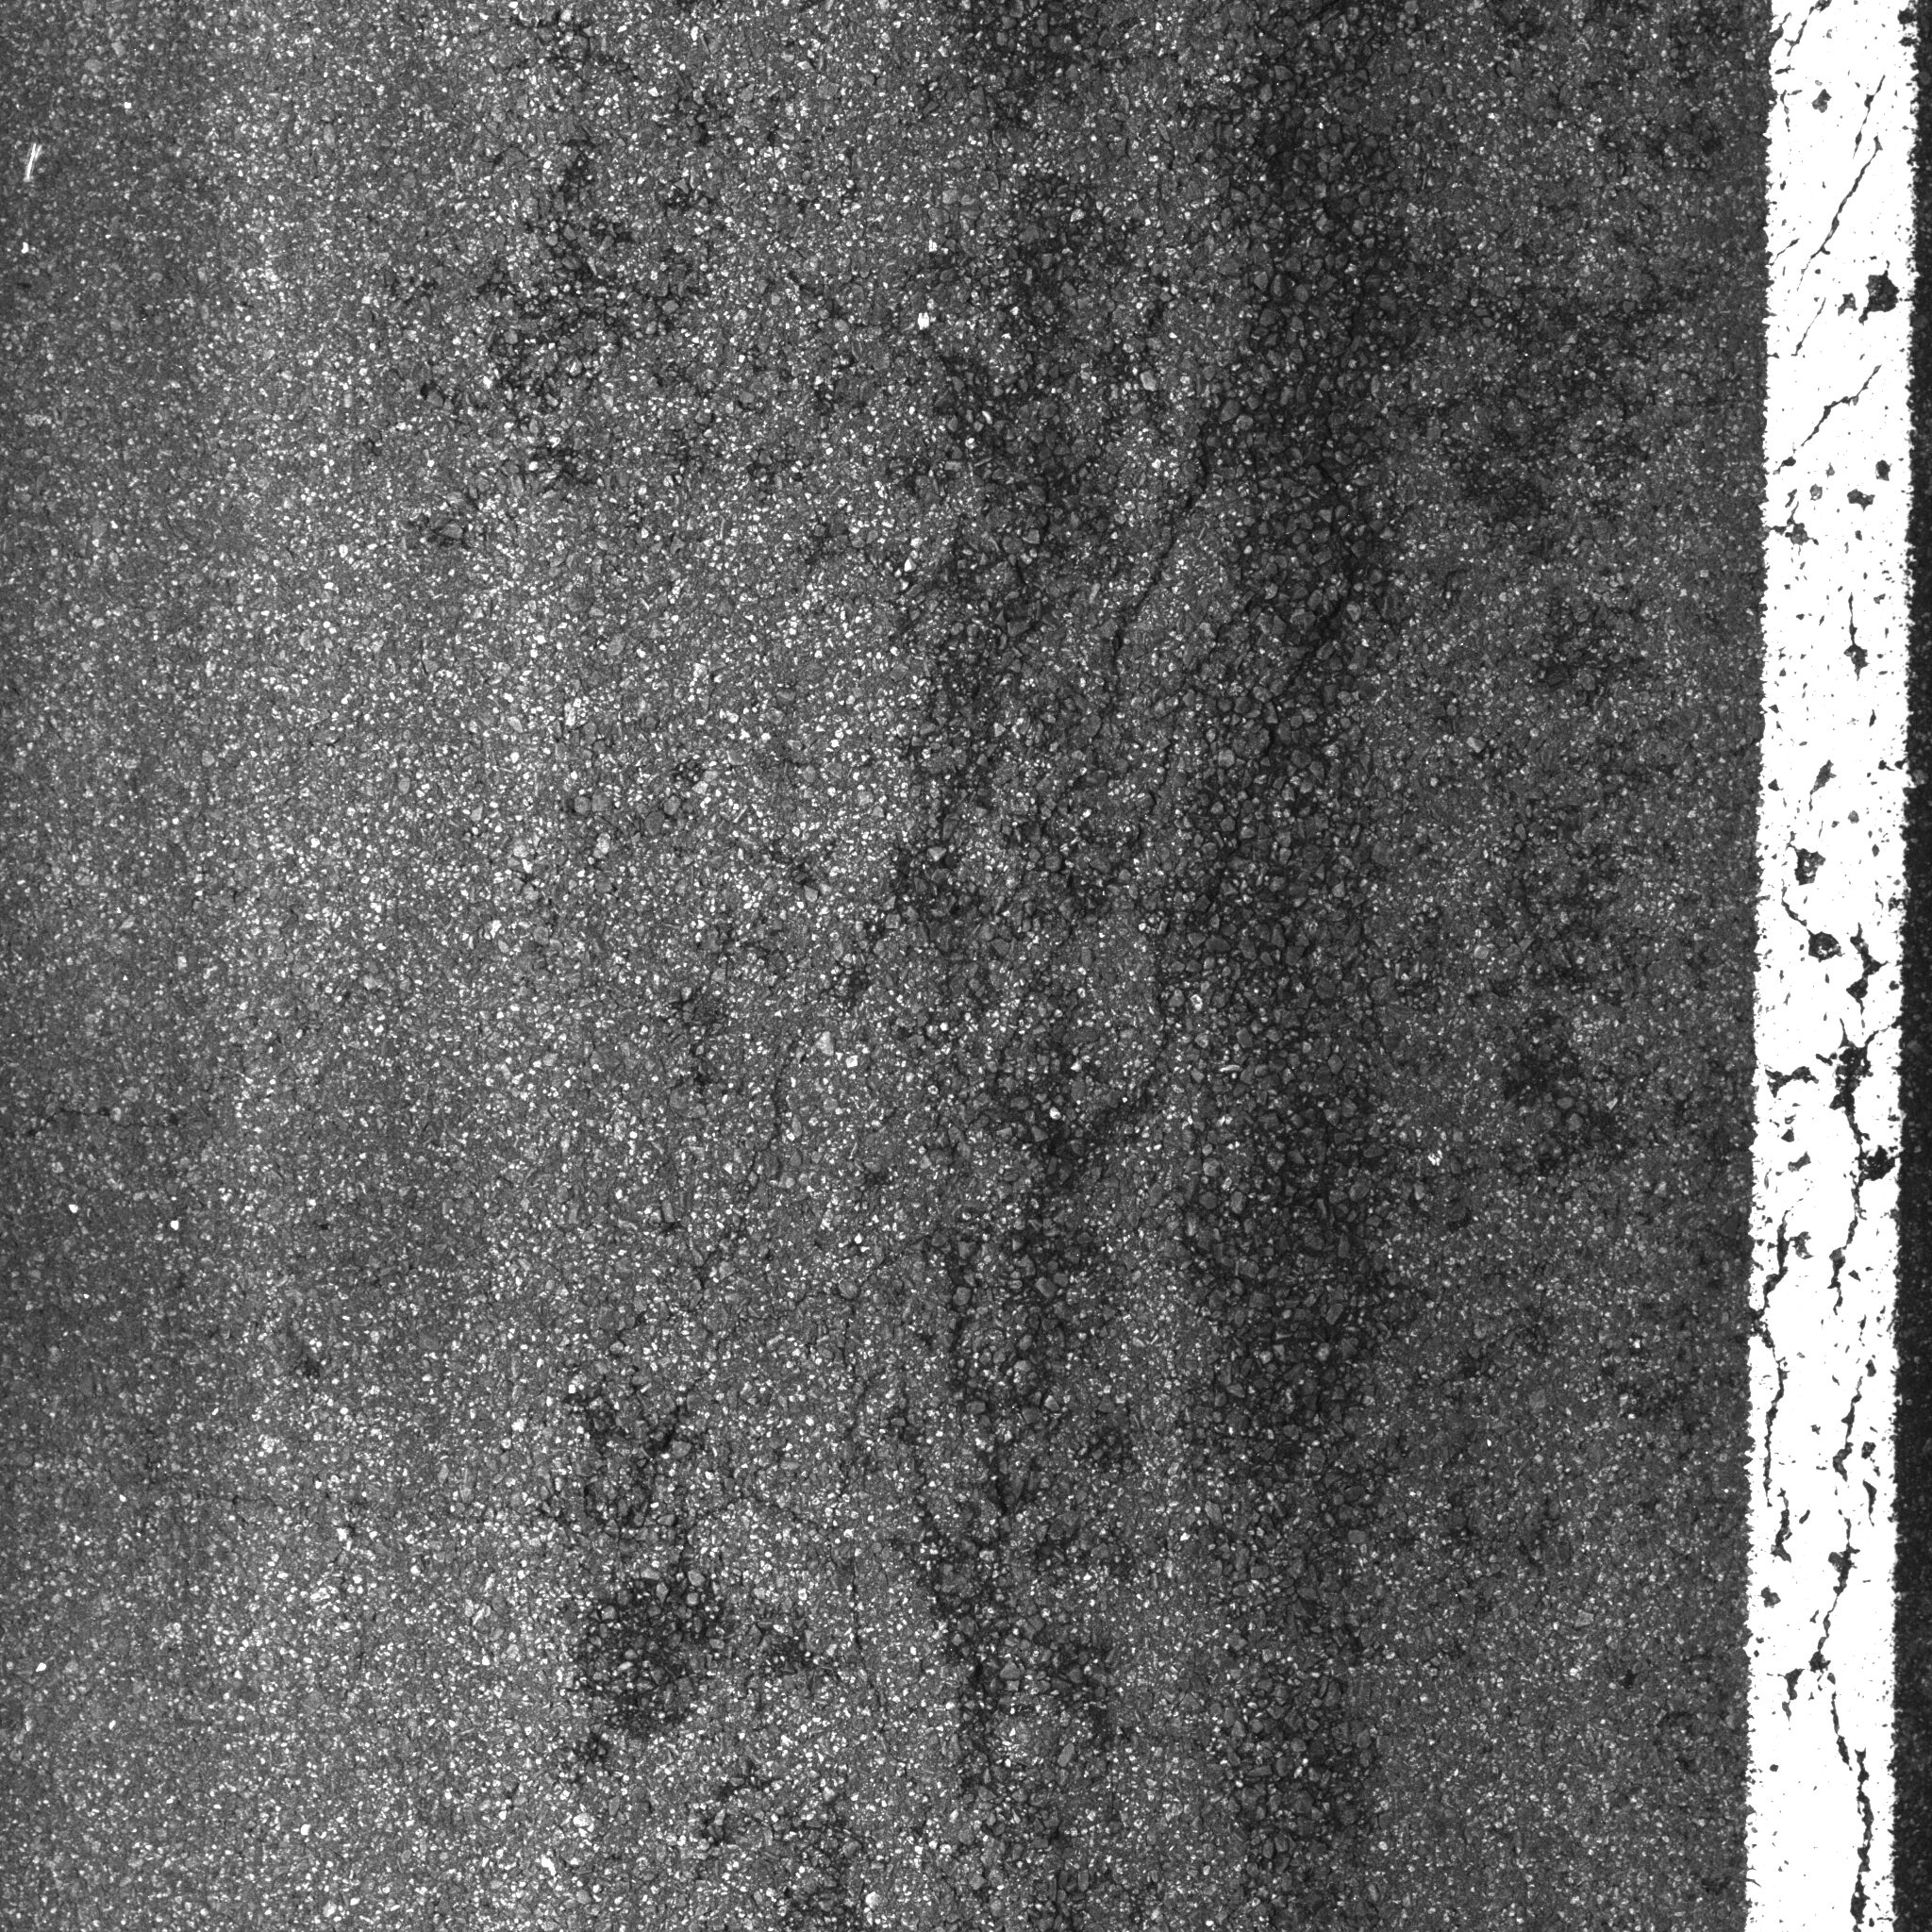longitudinal: (872, 1201, 1028, 1822), (1086, 311, 1244, 658)
